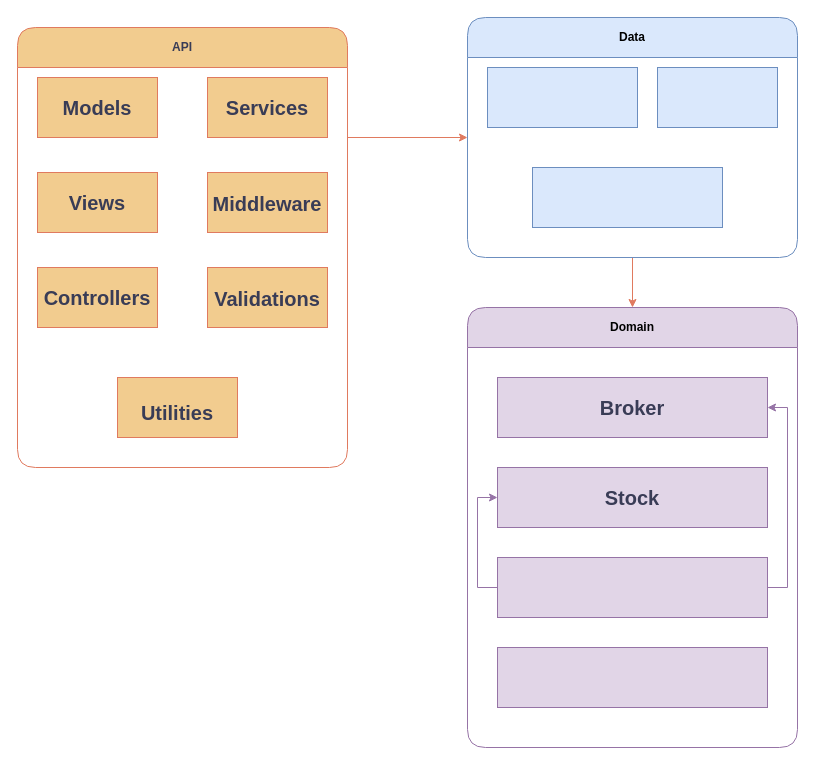
This 815x765 diagram has some shape labels left out. Each missing label, with the centre of its shape:
"Configuration" goes at point (562, 97).
"CustomExceptions" goes at point (632, 677).
"Migrations" goes at point (717, 97).
"Repositories" goes at point (627, 197).
"Trade" goes at point (632, 587).
